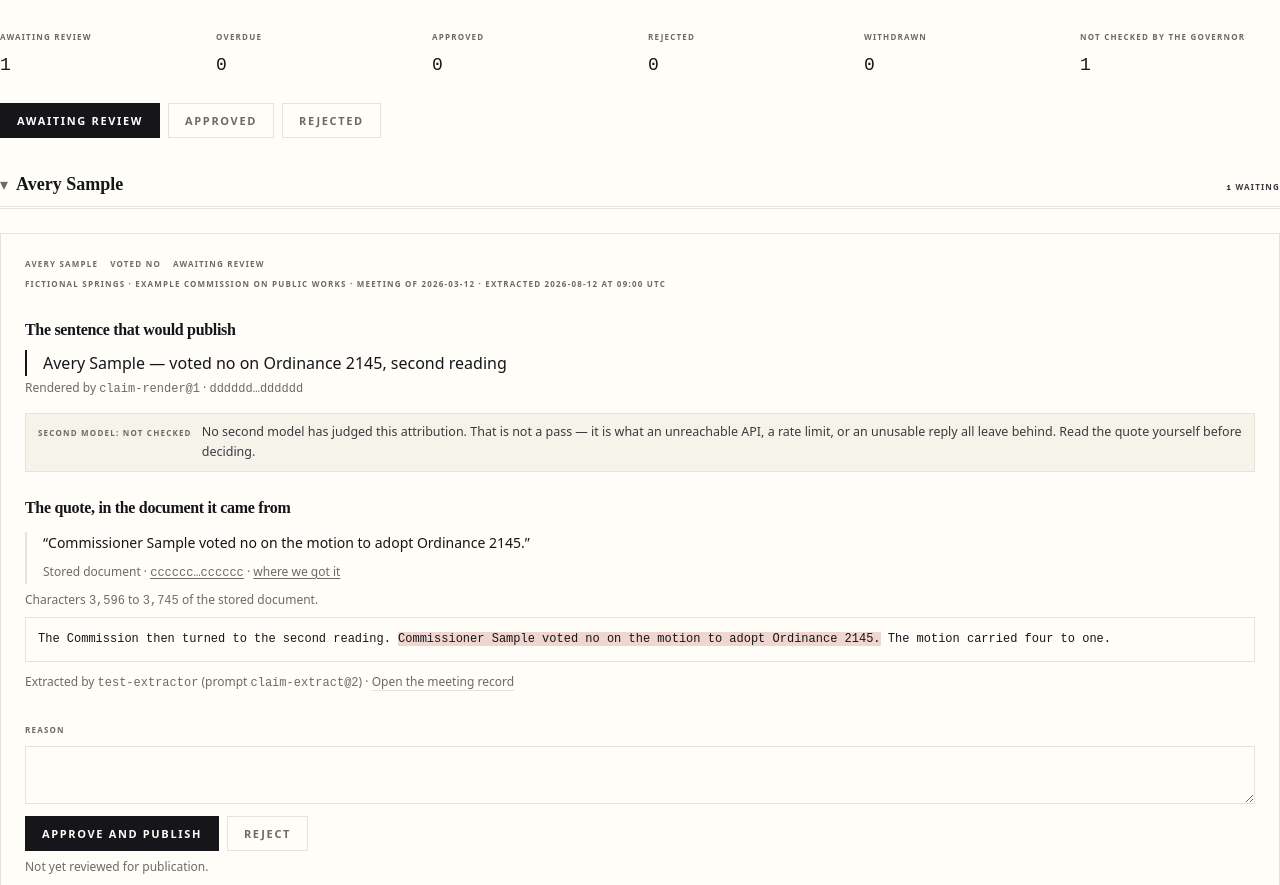
AdminClaimsPage › repeats the API's refusal verbatim rather than paraphrasing it
(page scrolled)
Type "Looks right." into the text box labelled "Reason" at (640, 775), box [25, 746, 1255, 804]
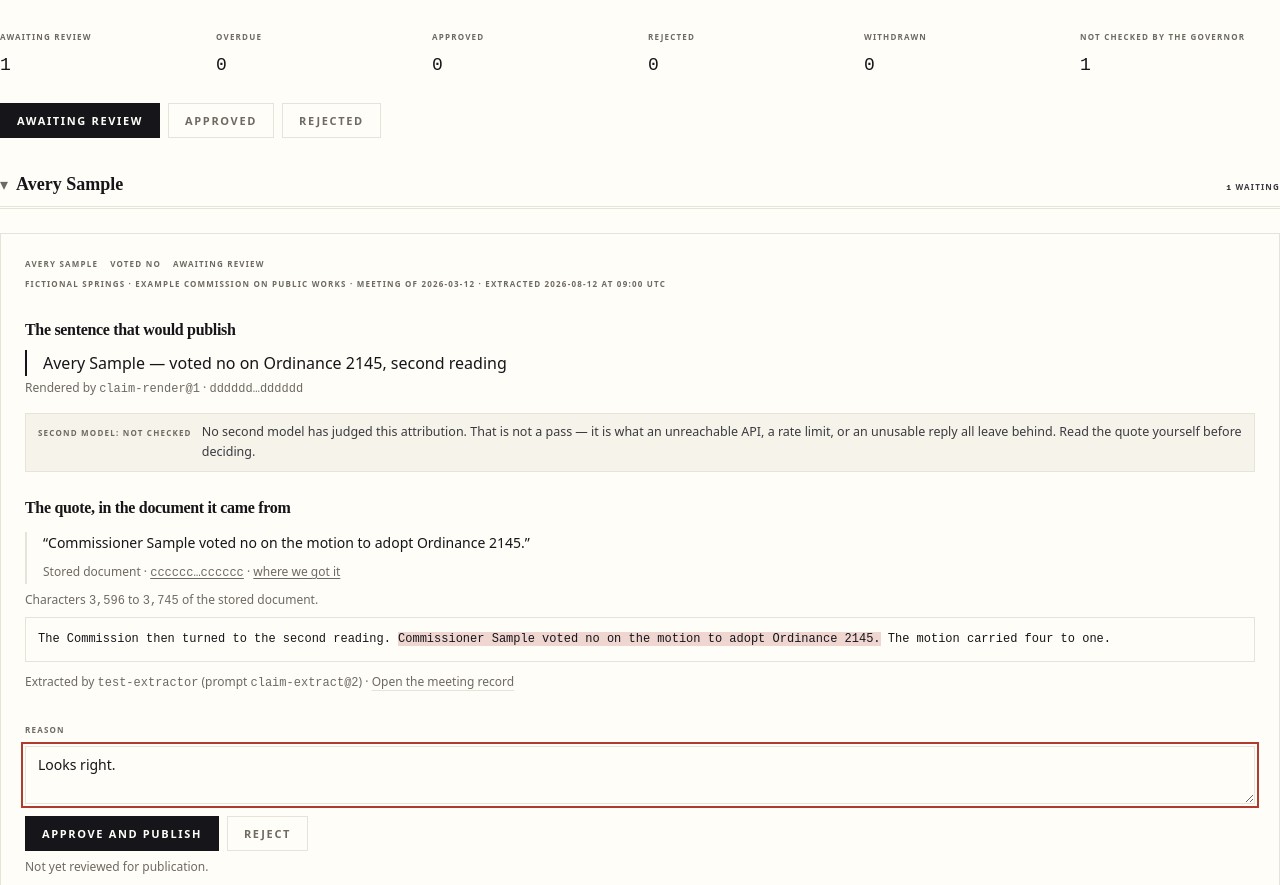
Click the button "Approve and publish" at (122, 834), box [25, 816, 219, 851]
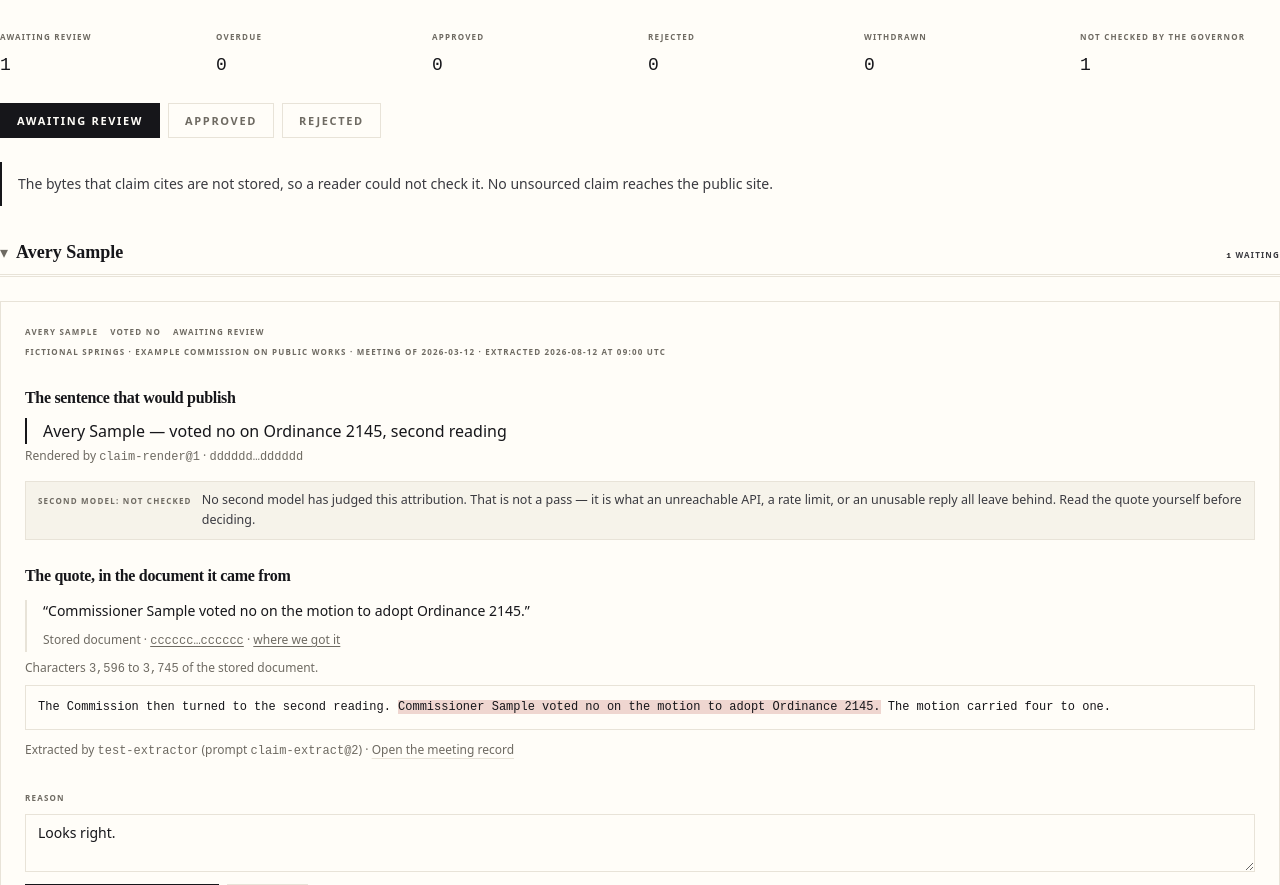
Expected: the message shows "No unsourced claim reaches the public site.", [18, 174, 773, 193]
